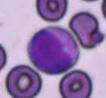M: (26, 26, 79, 74)
